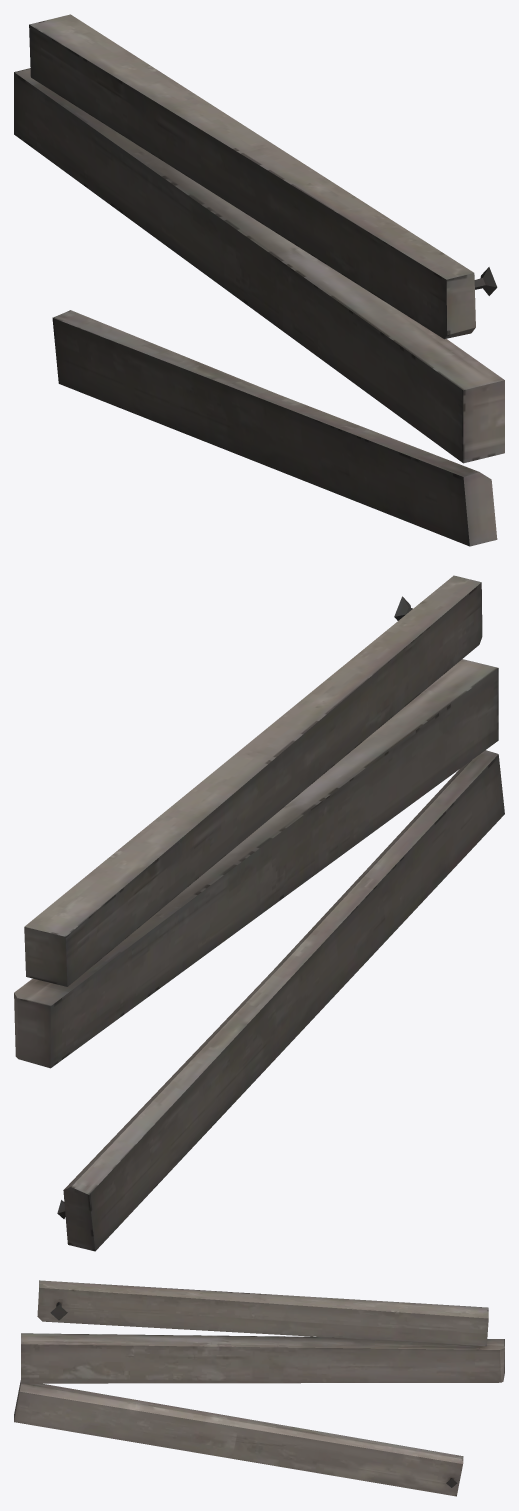
The picture shows the model from 3 angles, top to bottom: view 1: azimuth 30°, elevation 25°; view 2: azimuth 150°, elevation 25°; view 3: azimuth 270°, elevation 25°; orthographic projection. The views are drawn at different scales.
Parts seen in each view (by area): view 1: body0_model0_lod0_mesh0; view 2: body0_model0_lod0_mesh0; view 3: body0_model0_lod0_mesh0.
Part boxes in pixels (x1=…): body0_model0_lod0_mesh0: x1=14, y1=14, x2=504, y2=546; body0_model0_lod0_mesh0: x1=14, y1=575, x2=504, y2=1251; body0_model0_lod0_mesh0: x1=14, y1=1280, x2=504, y2=1496.
Size of the model in its own units: 7.44 by 45.03 by 95.94.
1 material, 1 textured.
